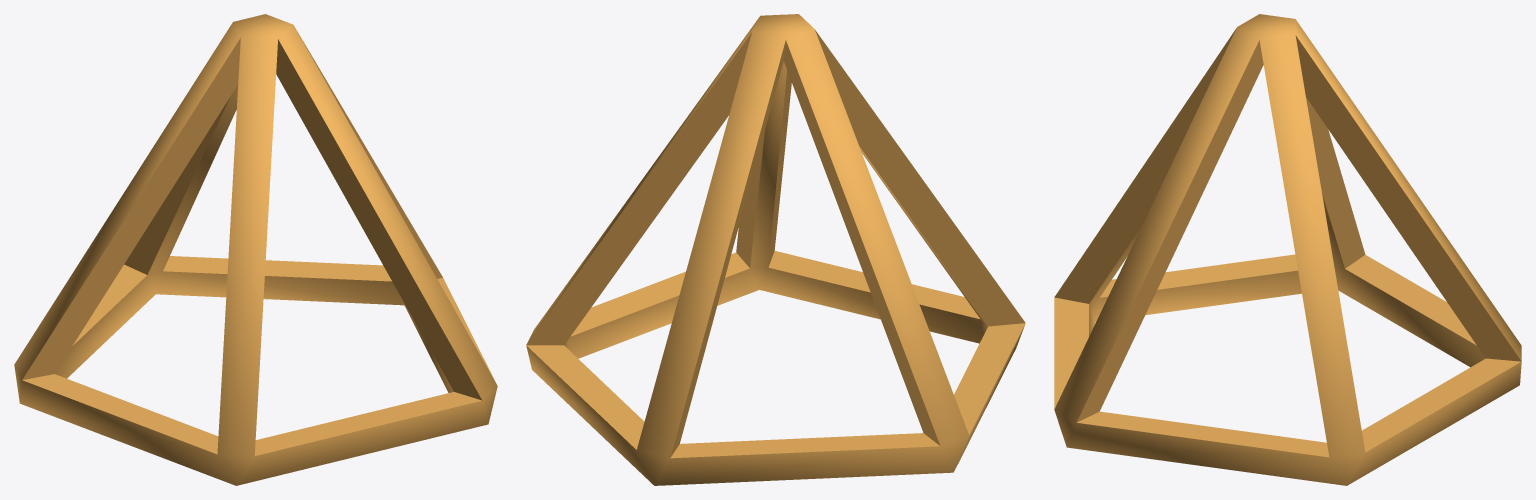
Rendered from PyramidMesh_5P.fbx.
3 renders of one model, left to right at view 1: azimuth 30°, elevation 25°; view 2: azimuth 150°, elevation 25°; view 3: azimuth 270°, elevation 25°, orthographic. The views are drawn at different scales.
Visible parts, largest first — view 1: PyramidMesh_5P; view 2: PyramidMesh_5P; view 3: PyramidMesh_5P.
Boxes of the visible parts, x1,y1,x2,y2 form: PyramidMesh_5P: [14, 14, 497, 485]; PyramidMesh_5P: [526, 14, 1025, 485]; PyramidMesh_5P: [1054, 14, 1521, 485].
Size of the model in its own units: 330 by 266 by 314.
